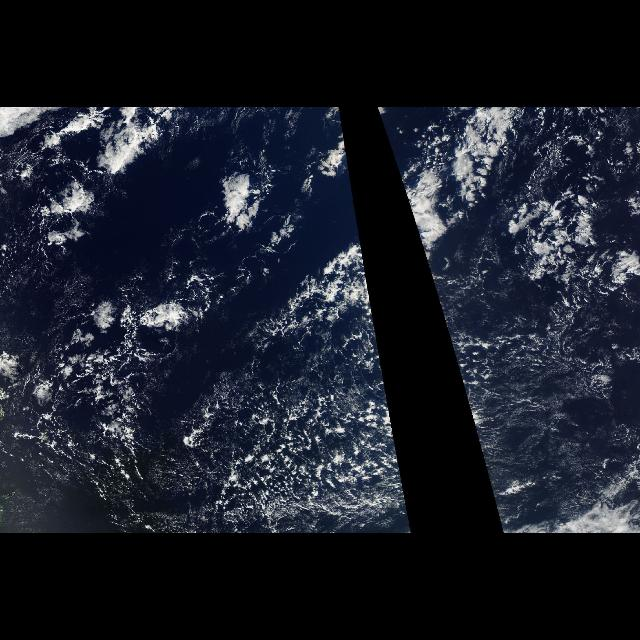Fish: (376, 110, 538, 332), (236, 110, 378, 332)
Gravel: (198, 342, 412, 524), (450, 342, 514, 524)
